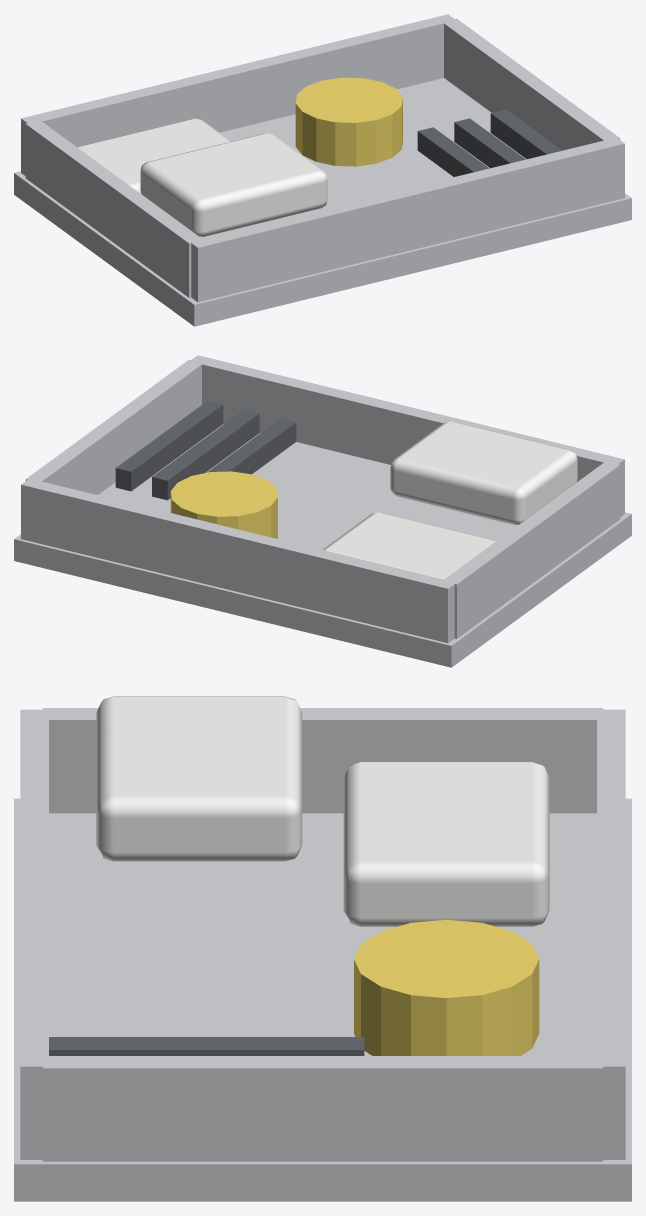
The model's file is gloves.glb.
3 views of the same model, one above another, from view 1: azimuth 30°, elevation 25°; view 2: azimuth 150°, elevation 25°; view 3: azimuth 270°, elevation 25° (orthographic). The views are drawn at different scales.
Visible parts, largest first — view 1: gloves-and-tools-tray; view 2: gloves-and-tools-tray; view 3: gloves-and-tools-tray.
Boxes of the visible parts, left/top/right/bottom form: gloves-and-tools-tray: left=14, top=14, right=631, bottom=326; gloves-and-tools-tray: left=14, top=355, right=631, bottom=667; gloves-and-tools-tray: left=14, top=696, right=631, bottom=1201.
Size of the model in its own units: 0.42 by 0.09 by 0.3.
